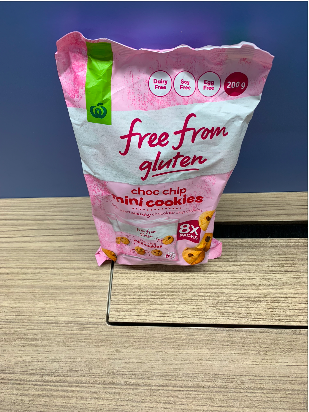Cookies_200-299g: (85, 62, 220, 262)
